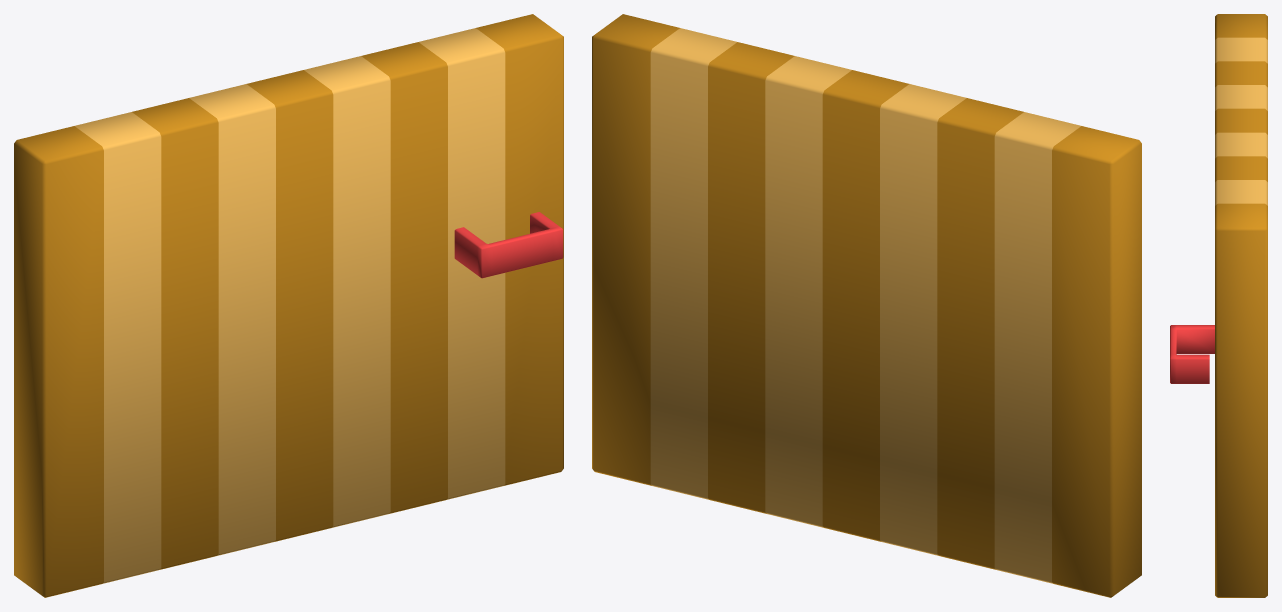
The model's file is door.FBX.
The picture shows the model from 3 angles, left to right: view 1: azimuth 30°, elevation 25°; view 2: azimuth 150°, elevation 25°; view 3: azimuth 270°, elevation 25°; orthographic projection. The views are drawn at different scales.
Visible parts, largest first — view 1: obj_08; view 2: obj_08; view 3: obj_08.
Boxes of the visible parts, x1,y1,x2,y2 form: obj_08: [14, 14, 563, 597]; obj_08: [592, 14, 1141, 597]; obj_08: [1170, 14, 1267, 597].
Size of the model in its own units: 55.57 by 44.51 by 10.65.
